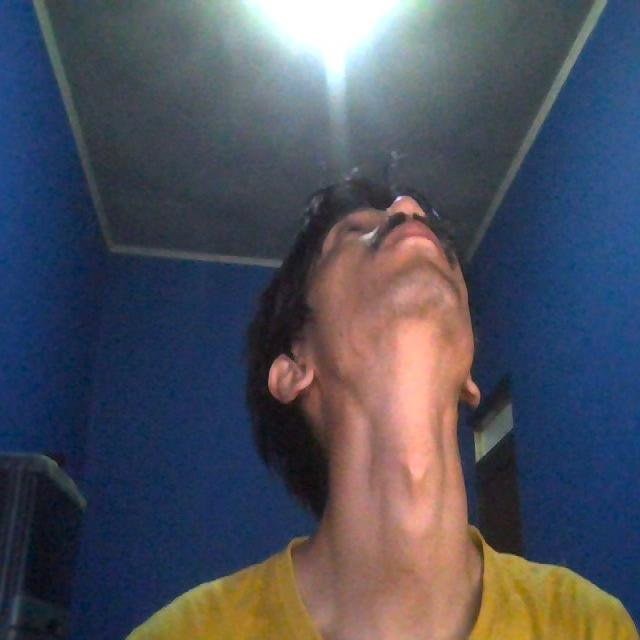Melihat keatas: (223, 165, 526, 547)
